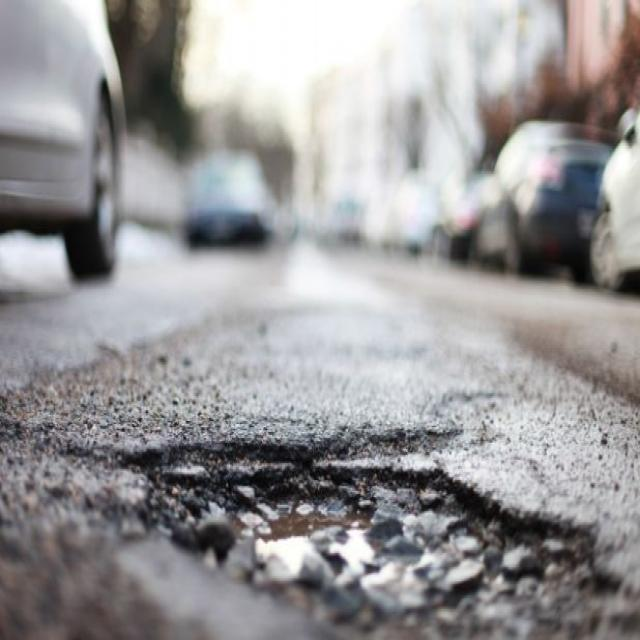pothole: (71, 422, 611, 638)
